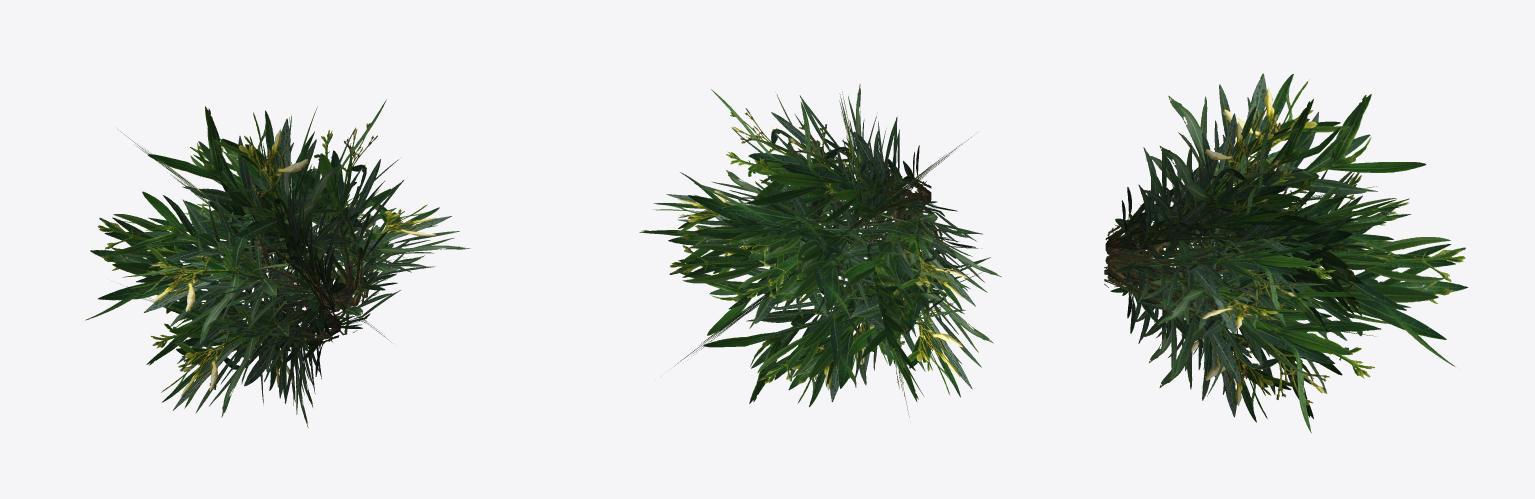
The model's file is Bush_01.FBX.
3 renders of one model, left to right at view 1: azimuth 30°, elevation 25°; view 2: azimuth 150°, elevation 25°; view 3: azimuth 270°, elevation 25°, orthographic. The views are drawn at different scales.
Visible parts, largest first — view 1: Bush_01; view 2: Bush_01; view 3: Bush_01.
Part boxes in pixels (x1,y1,x2,y2): Bush_01: (85, 99, 470, 427); Bush_01: (639, 84, 1001, 417); Bush_01: (1104, 73, 1468, 432).
Size of the model in its own units: 47.48 by 46.06 by 43.08.
